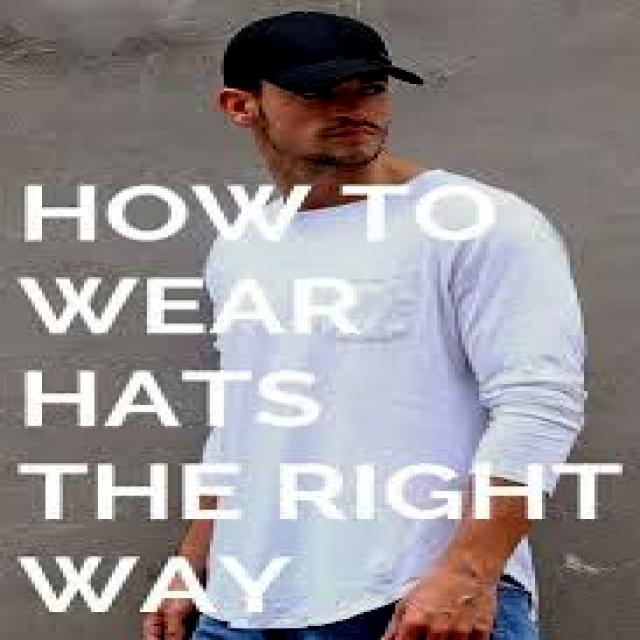hat: (224, 12, 423, 93)
